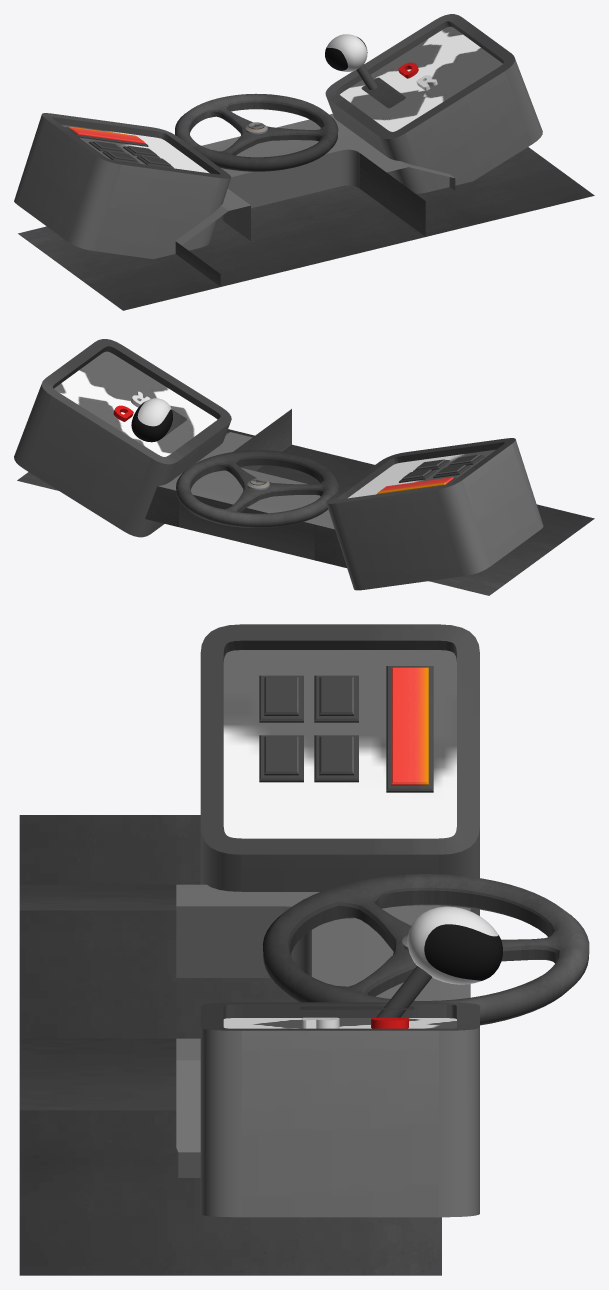
File: Truck_panel (2).fbx
3 views of the same model, one above another, from view 1: azimuth 30°, elevation 25°; view 2: azimuth 150°, elevation 25°; view 3: azimuth 270°, elevation 25° (orthographic). The views are drawn at different scales.
Parts seen in each view (by area): view 1: Box046, Circle_001_002, Ball; view 2: Box046, Circle_001_002, Ball; view 3: Box046, Circle_001_002, Ball.
Part boxes in pixels (left/top/right/bottom): Box046: left=14, top=14, right=594, bottom=310; Circle_001_002: left=175, top=93, right=338, bottom=171; Ball: left=325, top=34, right=377, bottom=90; Box046: left=14, top=339, right=594, bottom=595; Circle_001_002: left=176, top=450, right=339, bottom=527; Ball: left=131, top=398, right=172, bottom=442; Box046: left=19, top=624, right=479, bottom=1275; Circle_001_002: left=262, top=874, right=589, bottom=1025; Ball: left=376, top=906, right=502, bottom=1017.
Size of the model in its own units: 1072 by 296 by 560.
